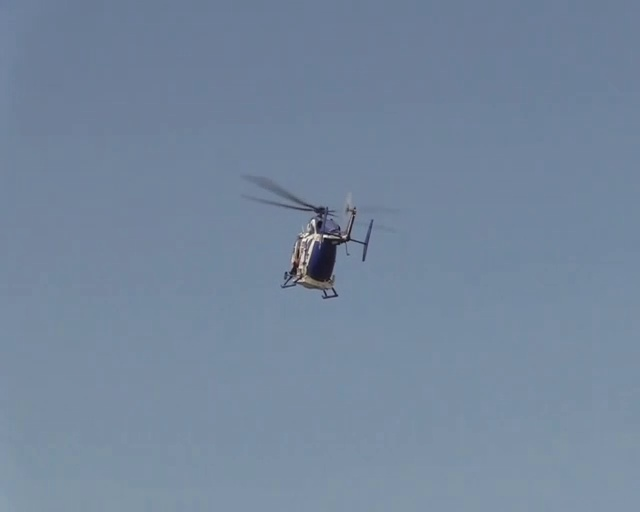HELICOPTER: (240, 171, 403, 299)
